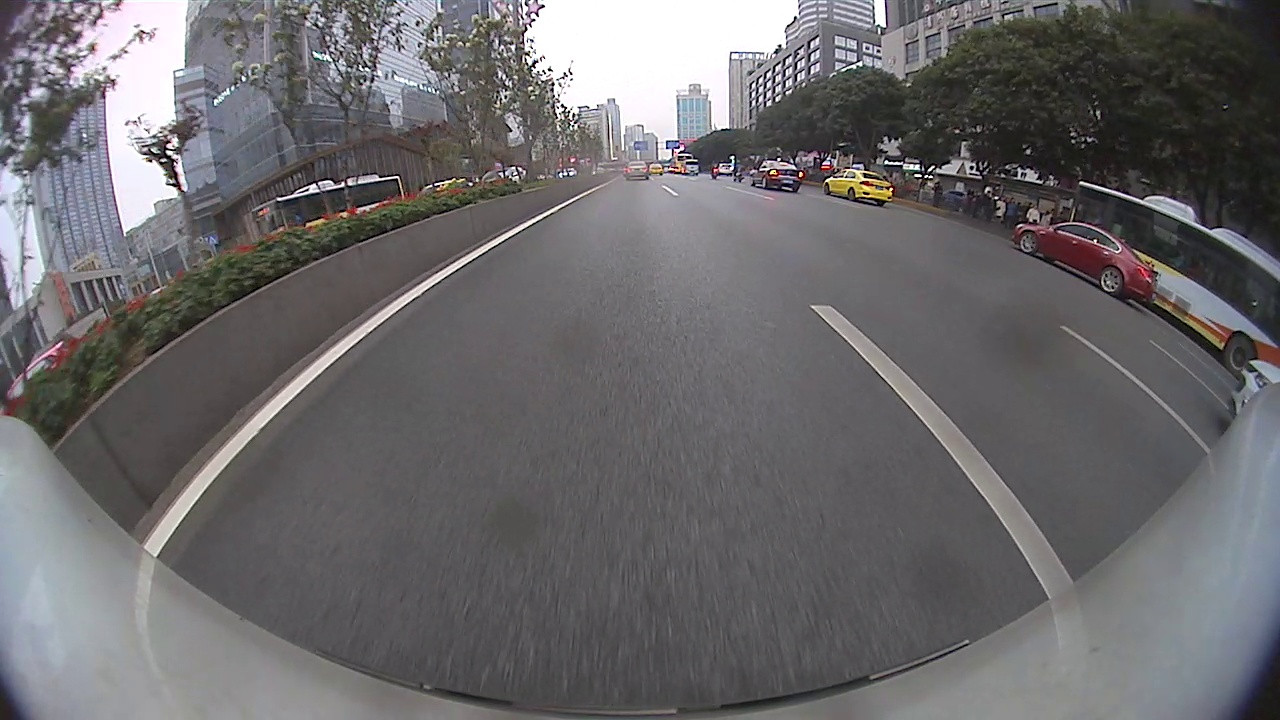bus: (1065, 180, 1279, 380), (235, 172, 408, 241)
car: (1011, 220, 1161, 312), (821, 166, 896, 210), (1226, 358, 1279, 418), (749, 156, 809, 194)
front: (1018, 231, 1040, 255), (824, 183, 832, 196)
rear: (1223, 333, 1256, 378), (1095, 266, 1126, 297), (762, 175, 771, 191), (847, 188, 856, 203)
